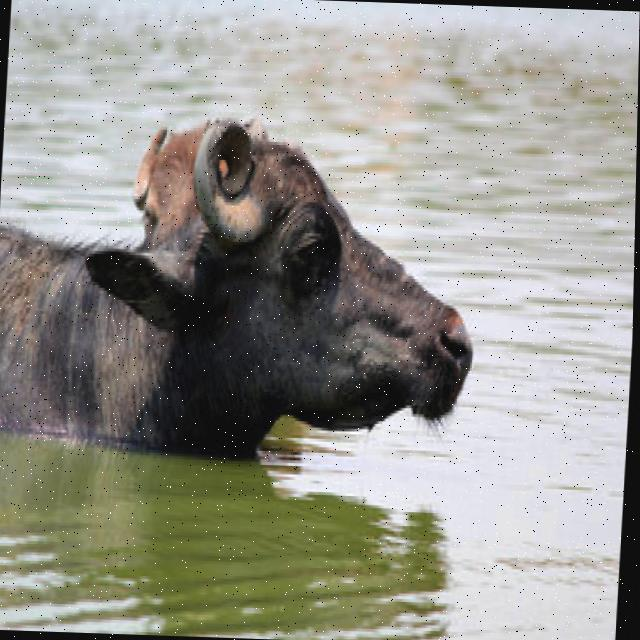Buffalo: (0, 104, 488, 469)
